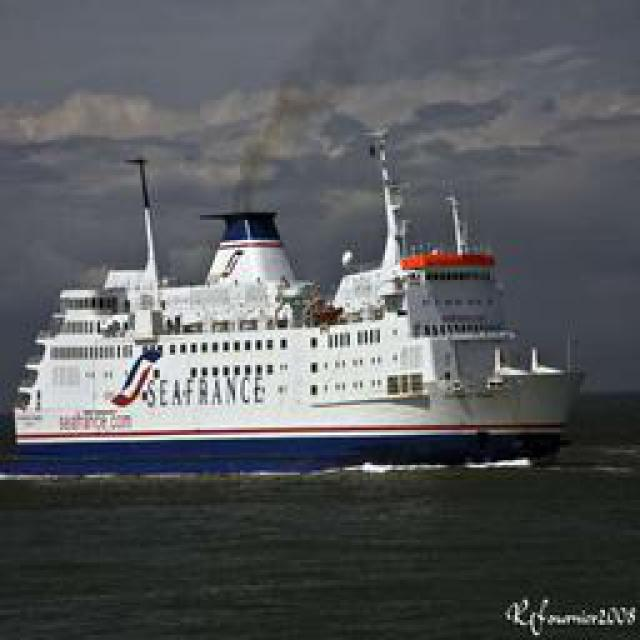Ship: (22, 171, 582, 469)
